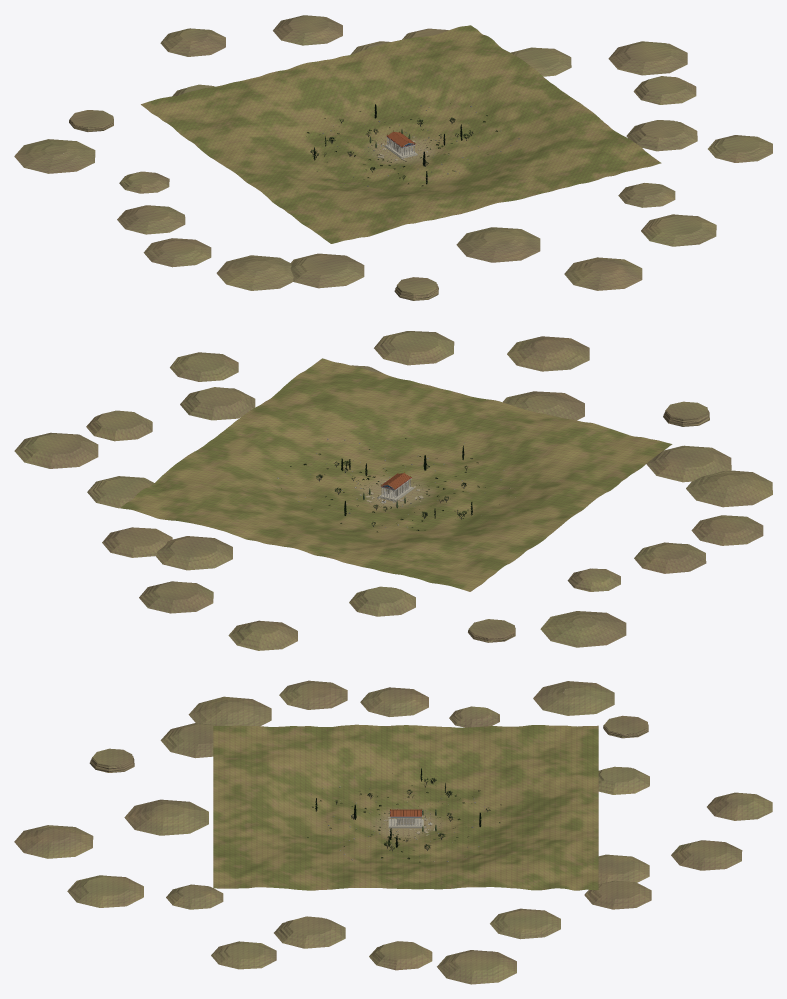
The model's file is letoon-leto-tapinagi-baked.glb.
3 renders of one model, top to bottom at view 1: azimuth 30°, elevation 25°; view 2: azimuth 150°, elevation 25°; view 3: azimuth 270°, elevation 25°, orthographic. The views are drawn at different scales.
Visible parts, largest first — view 1: letoon-leto-tapinagi-terrain, letoon-leto-tapinagi-ground, letoon-leto-tapinagi-flora, letoon-leto-tapinagi-near; view 2: letoon-leto-tapinagi-terrain, letoon-leto-tapinagi-ground, letoon-leto-tapinagi-flora, letoon-leto-tapinagi-near; view 3: letoon-leto-tapinagi-terrain, letoon-leto-tapinagi-ground, letoon-leto-tapinagi-near, letoon-leto-tapinagi-flora.
Part boxes in pixels (box(x1,y1,x2,y2)): letoon-leto-tapinagi-terrain: box(141, 25, 661, 243); letoon-leto-tapinagi-ground: box(14, 15, 772, 300); letoon-leto-tapinagi-flora: box(304, 103, 519, 189); letoon-leto-tapinagi-near: box(369, 129, 427, 161); letoon-leto-tapinagi-terrain: box(120, 358, 672, 591); letoon-leto-tapinagi-ground: box(14, 331, 772, 650); letoon-leto-tapinagi-flora: box(276, 438, 515, 532); letoon-leto-tapinagi-near: box(363, 473, 423, 508); letoon-leto-tapinagi-terrain: box(213, 724, 598, 890); letoon-leto-tapinagi-ground: box(14, 680, 772, 984); letoon-leto-tapinagi-near: box(383, 809, 436, 834); letoon-leto-tapinagi-flora: box(288, 768, 507, 862).
Size of the model in its own units: 663 by 23.14 by 700.
27 materials, 20 textured.
